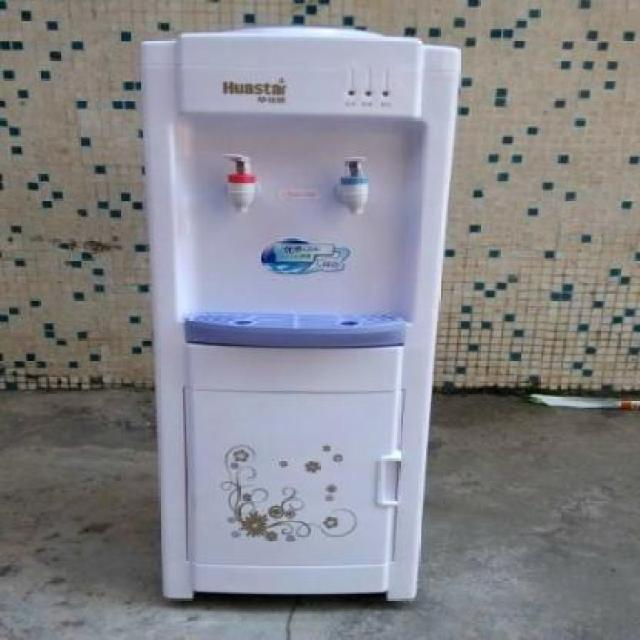cooler: (134, 22, 461, 606)
